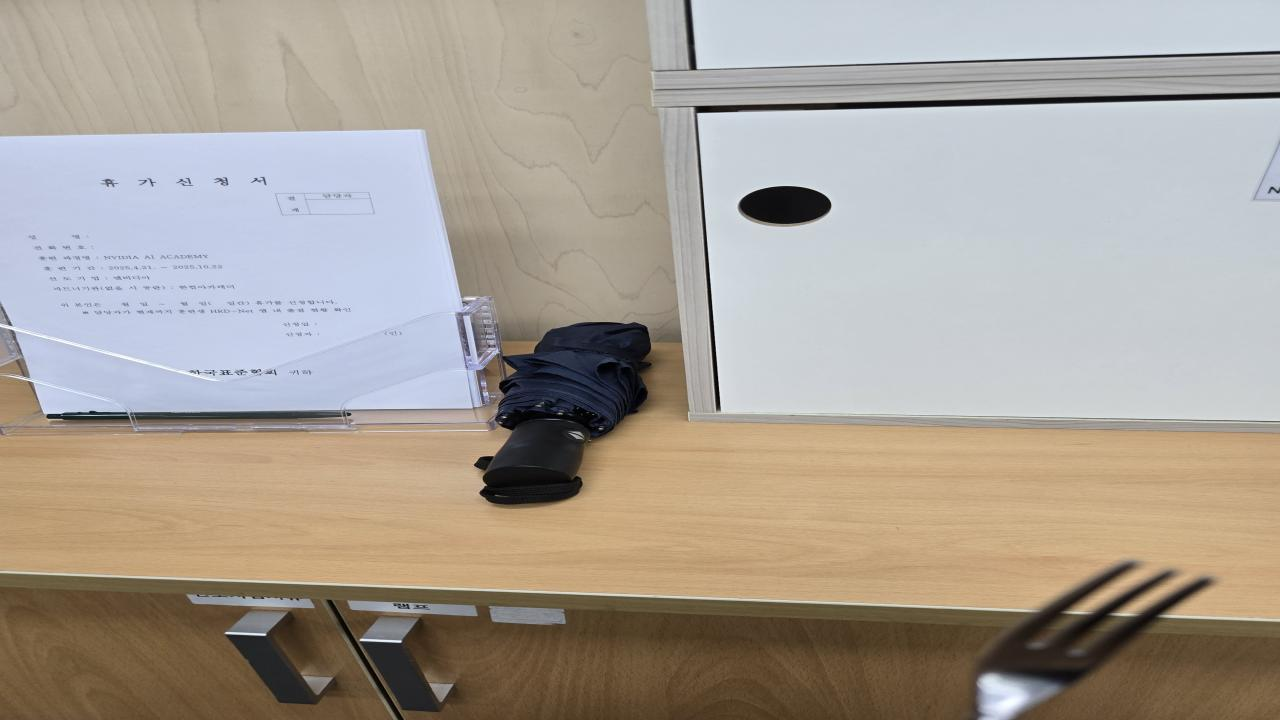fork: (967, 558, 1225, 720)
